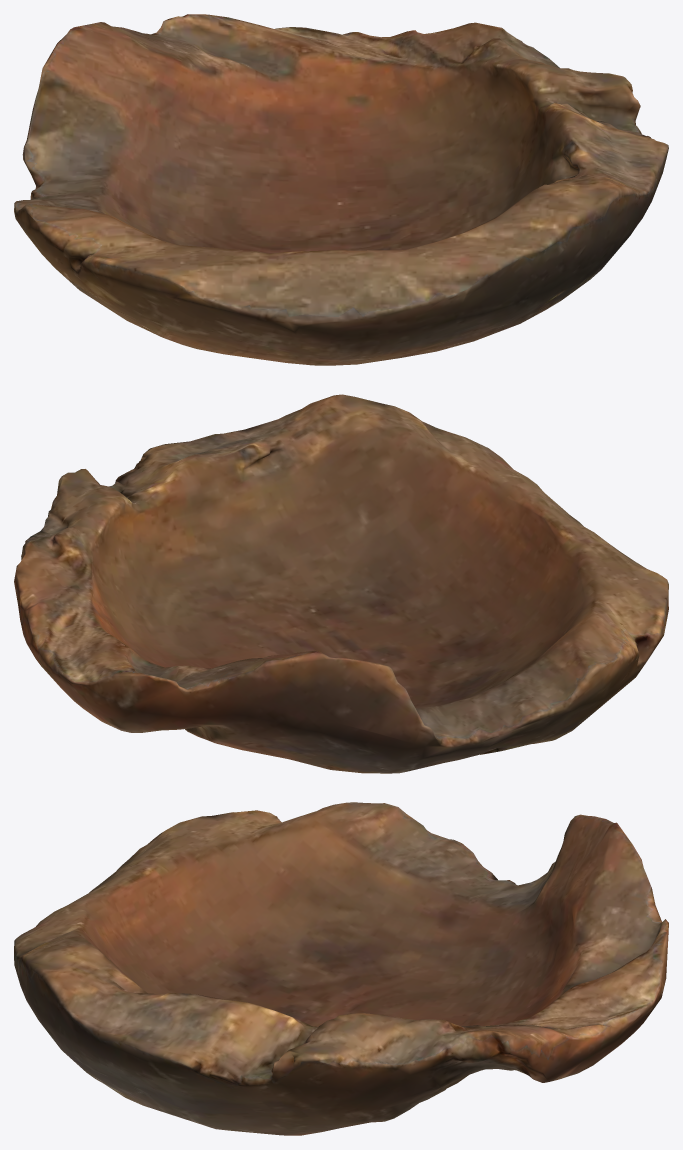
File: wooden_bowl_01.glb
3 views of the same model, one above another, from view 1: azimuth 30°, elevation 25°; view 2: azimuth 150°, elevation 25°; view 3: azimuth 270°, elevation 25° (orthographic). The views are drawn at different scales.
Visible parts, largest first — view 1: wooden_bowl_01; view 2: wooden_bowl_01; view 3: wooden_bowl_01.
Boxes of the visible parts, box(x1,y1,x2,y2) form: wooden_bowl_01: box(14, 14, 668, 365); wooden_bowl_01: box(14, 394, 668, 773); wooden_bowl_01: box(14, 802, 668, 1135).
Bounding box in the file's own units: 0.313 × 0.0937 × 0.309.
Materials: 1 (1 with a texture image).
